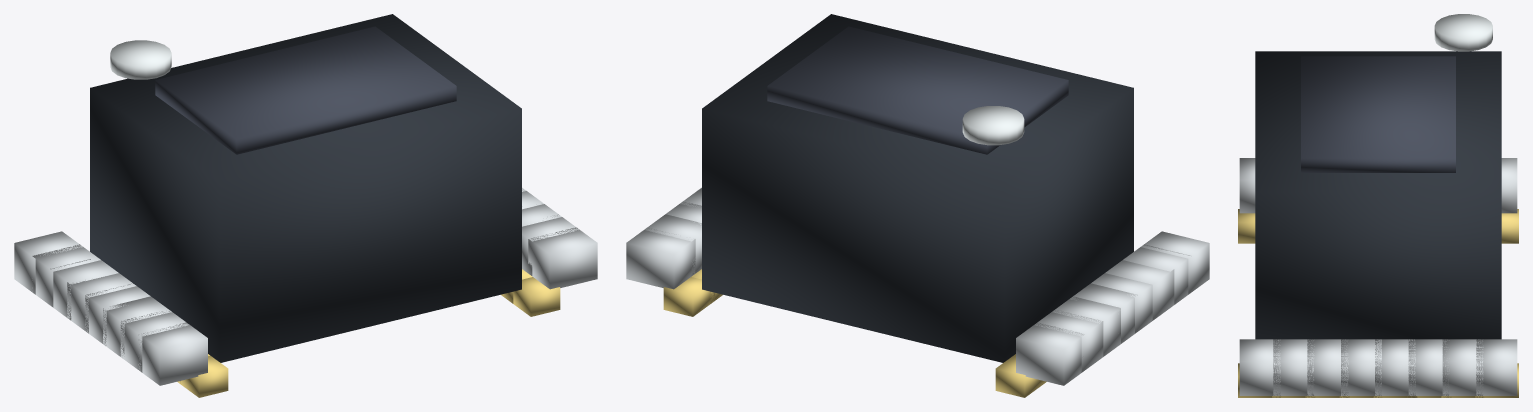
The model's file is 20_L95_U3_CD4040B_BinaryCounter_SOIC16.fbx.
3 views of the same model, side by side, from view 1: azimuth 30°, elevation 25°; view 2: azimuth 150°, elevation 25°; view 3: azimuth 270°, elevation 25° (orthographic). The views are drawn at different scales.
Visible parts, largest first — view 1: L95_CD4040B_BinaryCounter_SOI_Part_0000, L95_CD4040B_BinaryCounter_SOI_Part_0001, L95_CD4040B_BinaryCounter_SOI_Part_0002, L95_CD4040B_BinaryCounter_SOI_Part_0003, L95_CD4040B_BinaryCounter_SOI_Part_0004; view 2: L95_CD4040B_BinaryCounter_SOI_Part_0000, L95_CD4040B_BinaryCounter_SOI_Part_0001, L95_CD4040B_BinaryCounter_SOI_Part_0002, L95_CD4040B_BinaryCounter_SOI_Part_0003, L95_CD4040B_BinaryCounter_SOI_Part_0004; view 3: L95_CD4040B_BinaryCounter_SOI_Part_0000, L95_CD4040B_BinaryCounter_SOI_Part_0001, L95_CD4040B_BinaryCounter_SOI_Part_0002, L95_CD4040B_BinaryCounter_SOI_Part_0004, L95_CD4040B_BinaryCounter_SOI_Part_0003.
Boxes of the visible parts, left/top/right/bottom form: L95_CD4040B_BinaryCounter_SOI_Part_0000: left=90, top=14, right=521, bottom=362; L95_CD4040B_BinaryCounter_SOI_Part_0001: left=155, top=26, right=456, bottom=154; L95_CD4040B_BinaryCounter_SOI_Part_0002: left=14, top=187, right=597, bottom=385; L95_CD4040B_BinaryCounter_SOI_Part_0003: left=177, top=269, right=560, bottom=397; L95_CD4040B_BinaryCounter_SOI_Part_0004: left=110, top=40, right=171, bottom=79; L95_CD4040B_BinaryCounter_SOI_Part_0000: left=702, top=14, right=1133, bottom=362; L95_CD4040B_BinaryCounter_SOI_Part_0001: left=767, top=26, right=1068, bottom=154; L95_CD4040B_BinaryCounter_SOI_Part_0002: left=626, top=187, right=1209, bottom=385; L95_CD4040B_BinaryCounter_SOI_Part_0003: left=663, top=269, right=1046, bottom=397; L95_CD4040B_BinaryCounter_SOI_Part_0004: left=962, top=106, right=1024, bottom=145; L95_CD4040B_BinaryCounter_SOI_Part_0000: left=1255, top=51, right=1501, bottom=339; L95_CD4040B_BinaryCounter_SOI_Part_0001: left=1301, top=56, right=1455, bottom=172; L95_CD4040B_BinaryCounter_SOI_Part_0002: left=1239, top=158, right=1517, bottom=395; L95_CD4040B_BinaryCounter_SOI_Part_0004: left=1434, top=14, right=1492, bottom=51; L95_CD4040B_BinaryCounter_SOI_Part_0003: left=1238, top=209, right=1518, bottom=397.
Bounding box in the file's own units: 0.1646 × 0.0875 × 0.096.
